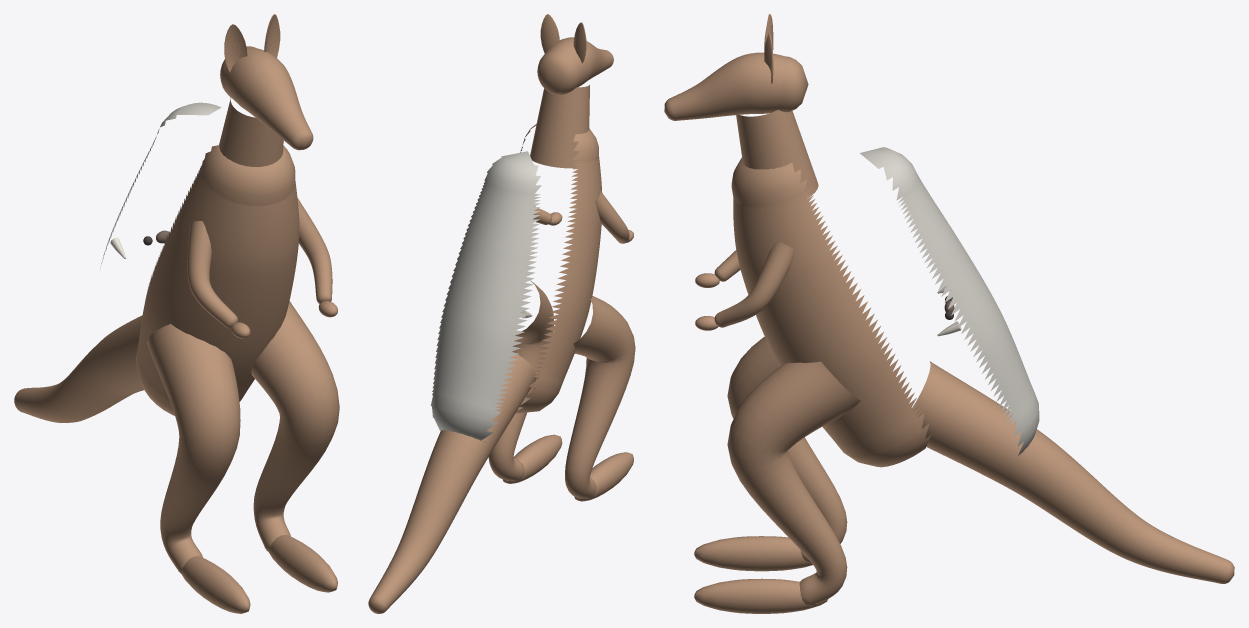
The model's file is other-red-kangaroo.glb.
The picture shows the model from 3 angles, left to right: view 1: azimuth 30°, elevation 25°; view 2: azimuth 150°, elevation 25°; view 3: azimuth 270°, elevation 25°; orthographic projection. The views are drawn at different scales.
Visible parts, largest first — view 1: red-kangaroo; view 2: red-kangaroo; view 3: red-kangaroo.
Boxes of the visible parts, x1=… form: red-kangaroo: x1=14, y1=14, x2=339, y2=613; red-kangaroo: x1=368, y1=14, x2=635, y2=613; red-kangaroo: x1=664, y1=14, x2=1234, y2=613.
Bounding box in the file's own units: 16041 × 56828 × 51778.
Materials: 5 (2 with a texture image).
